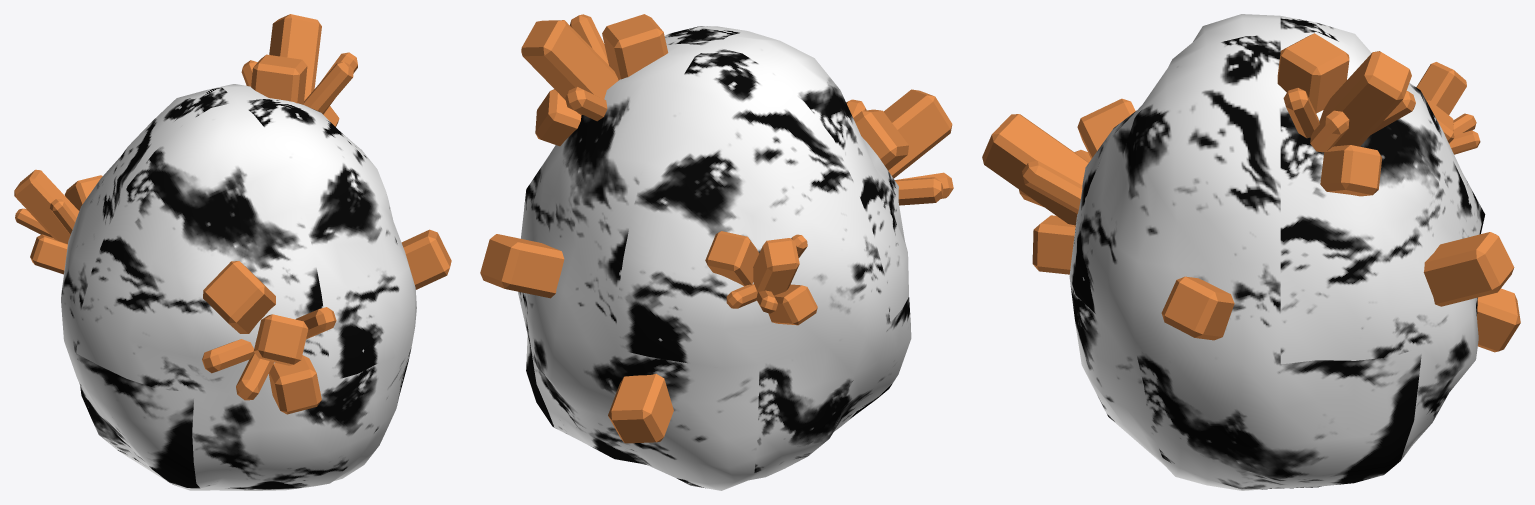
The model's file is ore-copper.glb.
The picture shows the model from 3 angles, left to right: view 1: azimuth 30°, elevation 25°; view 2: azimuth 150°, elevation 25°; view 3: azimuth 270°, elevation 25°; orthographic projection. The views are drawn at different scales.
Visible parts, largest first — view 1: rock-copper, Cube.011, ore, Cube.012, Cube.002, ore.002, ore.001, ore.003, Cube.006, Cube.015, Cube.007, Cube.014 (+3 smaller); view 2: rock-copper, ore, ore.005, ore.004, ore.002, Cube.002, Cube.001, ore.001, Cube.011, Cube.003, Cube.007, Cube.015 (+3 smaller); view 3: rock-copper, ore.002, ore.005, ore, Cube.002, ore.003, Cube.003, ore.004, Cube.012, Cube.013, Cube.011, ore.001 (+2 smaller).
Part boxes in pixels (x1,y1,x2,y2): rock-copper: (61,84,416,490); Cube.011: (203,261,275,333); ore: (269,14,321,100); Cube.012: (268,355,321,414); Cube.002: (251,54,307,104); ore.002: (253,314,308,365); ore.001: (14,169,79,244); ore.003: (401,229,451,289); Cube.006: (303,62,353,113); Cube.015: (202,339,254,373); Cube.007: (30,234,67,274); Cube.014: (236,353,273,400); rock-copper: (518,26,911,490); ore: (521,20,618,114); ore.005: (480,234,564,298); ore.004: (608,374,673,443); ore.002: (883,89,952,178); Cube.002: (602,14,668,80); Cube.001: (705,231,758,286); ore.001: (753,238,799,295); Cube.011: (853,109,908,170); Cube.003: (535,89,581,146); Cube.007: (768,284,817,325); Cube.015: (895,177,943,205); rock-copper: (1069,14,1485,490); ore.002: (982,114,1088,225); ore.005: (1423,232,1514,306); ore: (1319,51,1411,146); Cube.002: (1277,33,1349,113); ore.003: (1161,276,1234,340); Cube.003: (1320,145,1382,196); ore.004: (1477,288,1520,352); Cube.012: (1032,215,1075,274); Cube.013: (1022,160,1082,213); Cube.011: (1077,98,1135,158); ore.001: (1416,62,1466,114).
Bounding box in the file's own units: 2.91 × 3.29 × 3.53.
2 materials, 1 textured.
